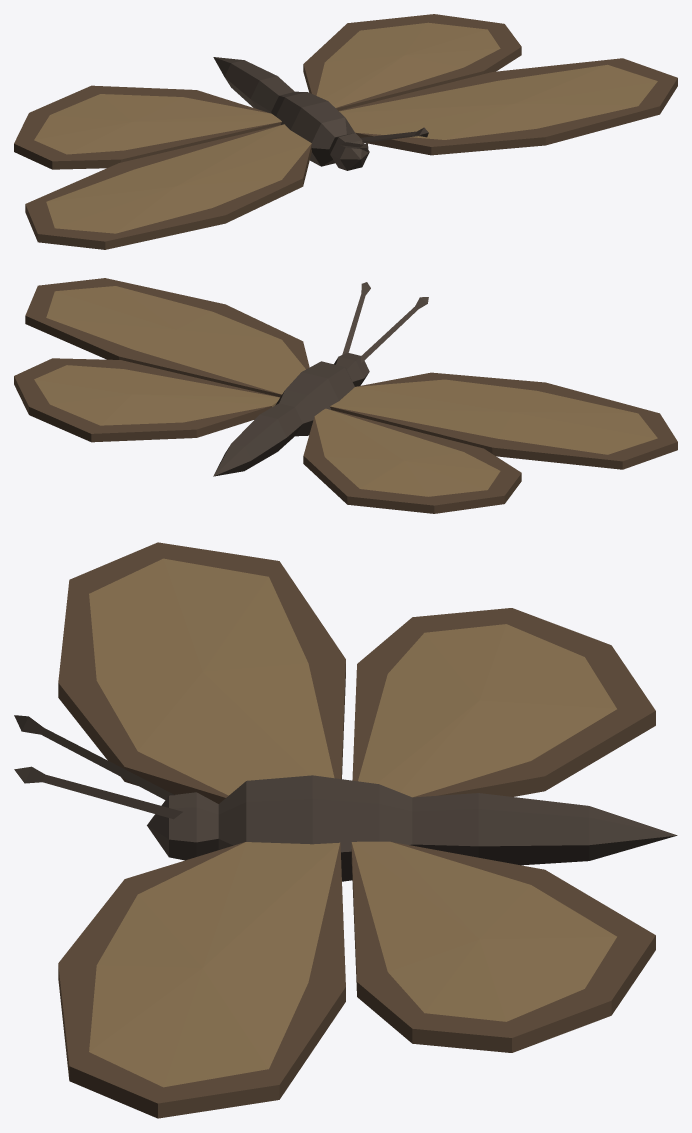
The model's file is 26B_Mariposa.fbx.
The picture shows the model from 3 angles, top to bottom: view 1: azimuth 30°, elevation 25°; view 2: azimuth 150°, elevation 25°; view 3: azimuth 270°, elevation 25°; orthographic projection. The views are drawn at different scales.
Parts seen in each view (by area): view 1: SM_26B_Mariposa_Alas_Der, SM_26B_Mariposa_Alas_Izq, SM_26B_Mariposa_Cuerpo; view 2: SM_26B_Mariposa_Alas_Der, SM_26B_Mariposa_Alas_Izq, SM_26B_Mariposa_Cuerpo; view 3: SM_26B_Mariposa_Alas_Izq, SM_26B_Mariposa_Alas_Der, SM_26B_Mariposa_Cuerpo.
Part boxes in pixels (x1=…): SM_26B_Mariposa_Alas_Der: x1=14, y1=85, x2=311, y2=249; SM_26B_Mariposa_Alas_Izq: x1=303, y1=14, x2=677, y2=155; SM_26B_Mariposa_Cuerpo: x1=213, y1=57, x2=428, y2=170; SM_26B_Mariposa_Alas_Der: x1=303, y1=372, x2=677, y2=513; SM_26B_Mariposa_Alas_Izq: x1=14, y1=278, x2=309, y2=442; SM_26B_Mariposa_Cuerpo: x1=213, y1=282, x2=428, y2=476; SM_26B_Mariposa_Alas_Izq: x1=58, y1=841, x2=655, y2=1118; SM_26B_Mariposa_Alas_Der: x1=58, y1=542, x2=655, y2=803; SM_26B_Mariposa_Cuerpo: x1=14, y1=715, x2=677, y2=881.
Bounding box in the file's own units: 0.12 × 0.0134 × 0.06.
